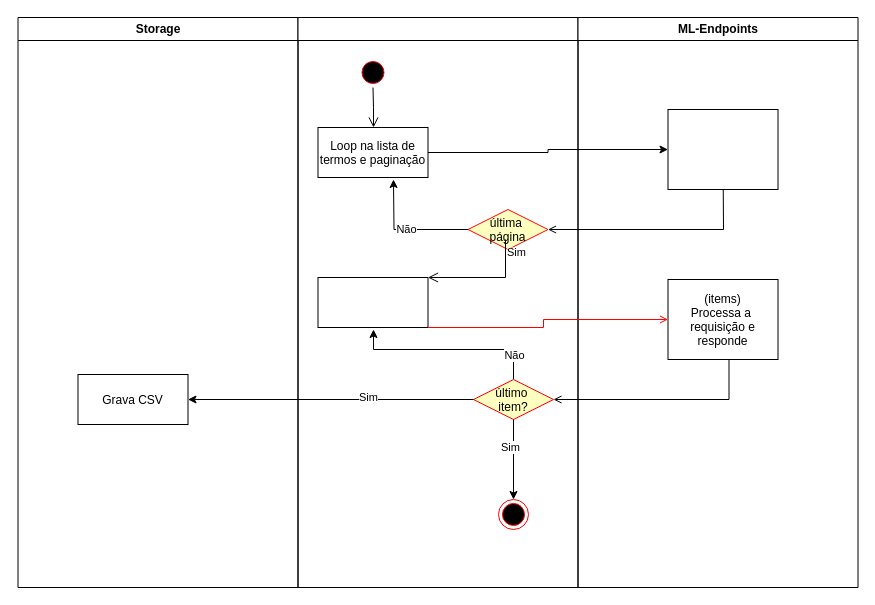
Image size: 875x605. Some labels were removed from this diagram. Each missing label, with the box of its shape:
(search) Processa a requisição e responde: (667, 108, 778, 190)
Loop na lista de items: (317, 276, 428, 328)
Python: (297, 16, 578, 588)
